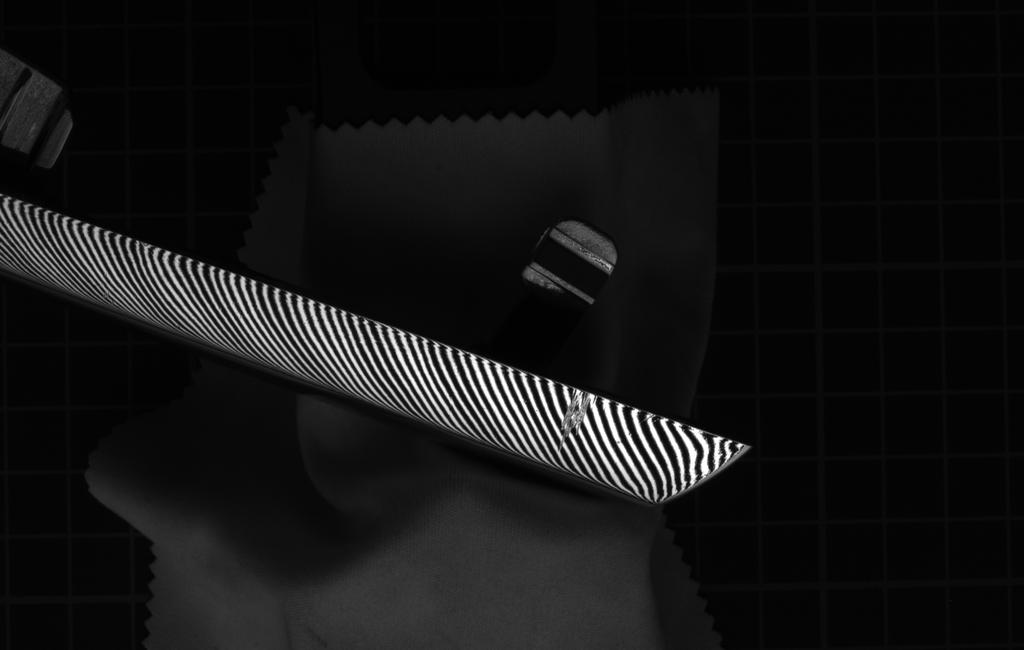Pitting: (549, 387, 596, 463)
